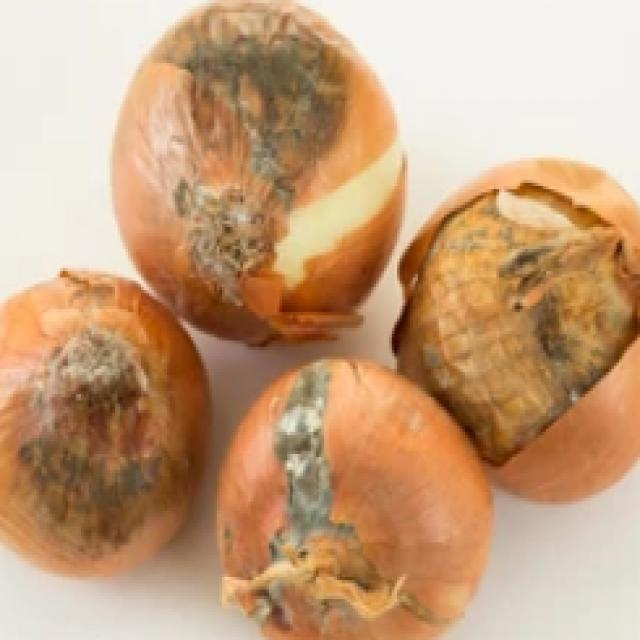rotten: (182, 38, 342, 192), (31, 412, 154, 546), (261, 372, 350, 520)
